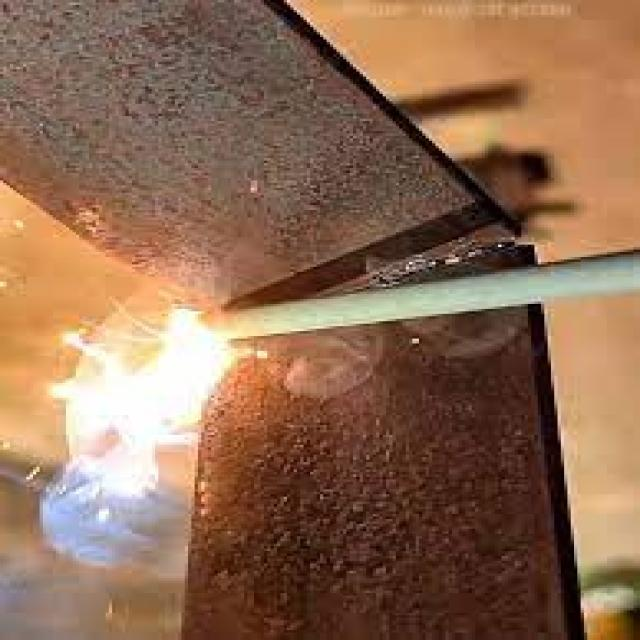fire: (48, 308, 235, 439)
